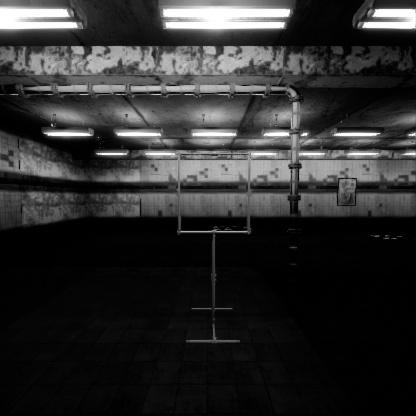gate: (177, 181, 257, 263)
